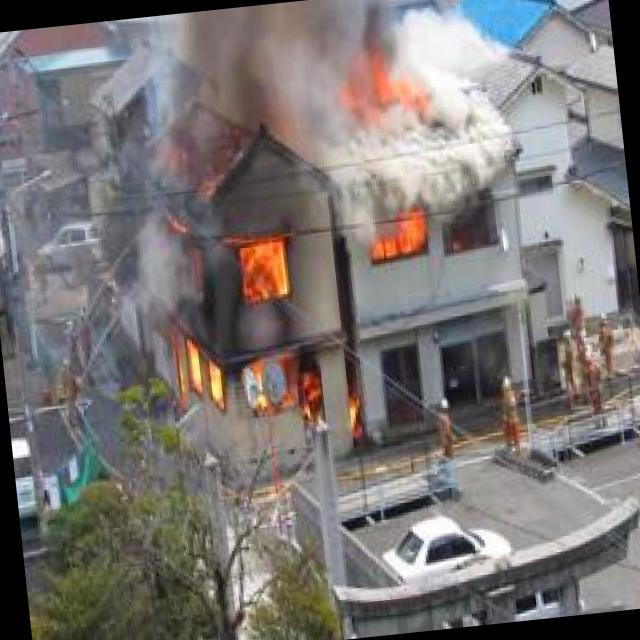Fire: (157, 202, 324, 440), (322, 35, 426, 128), (360, 213, 432, 267)
Smoke: (184, 0, 514, 209)
